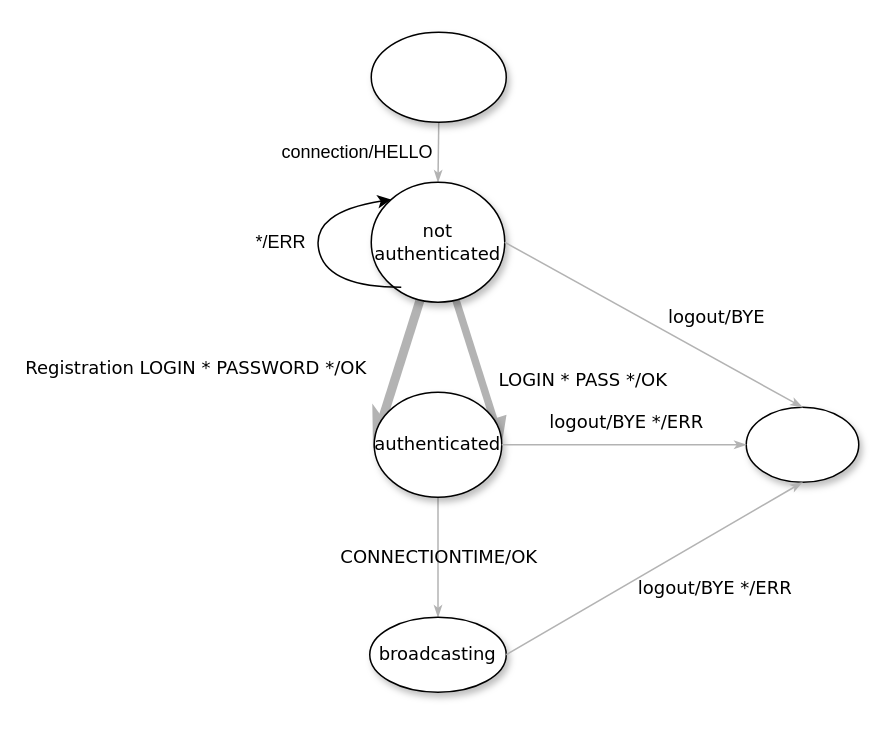
This 896x729 diagram has some shape labels left out. Here are the shapes that lost their labels. From the top down, the centre of each, then its label:
the point at 439,79: START
the point at 803,446: Node 7
